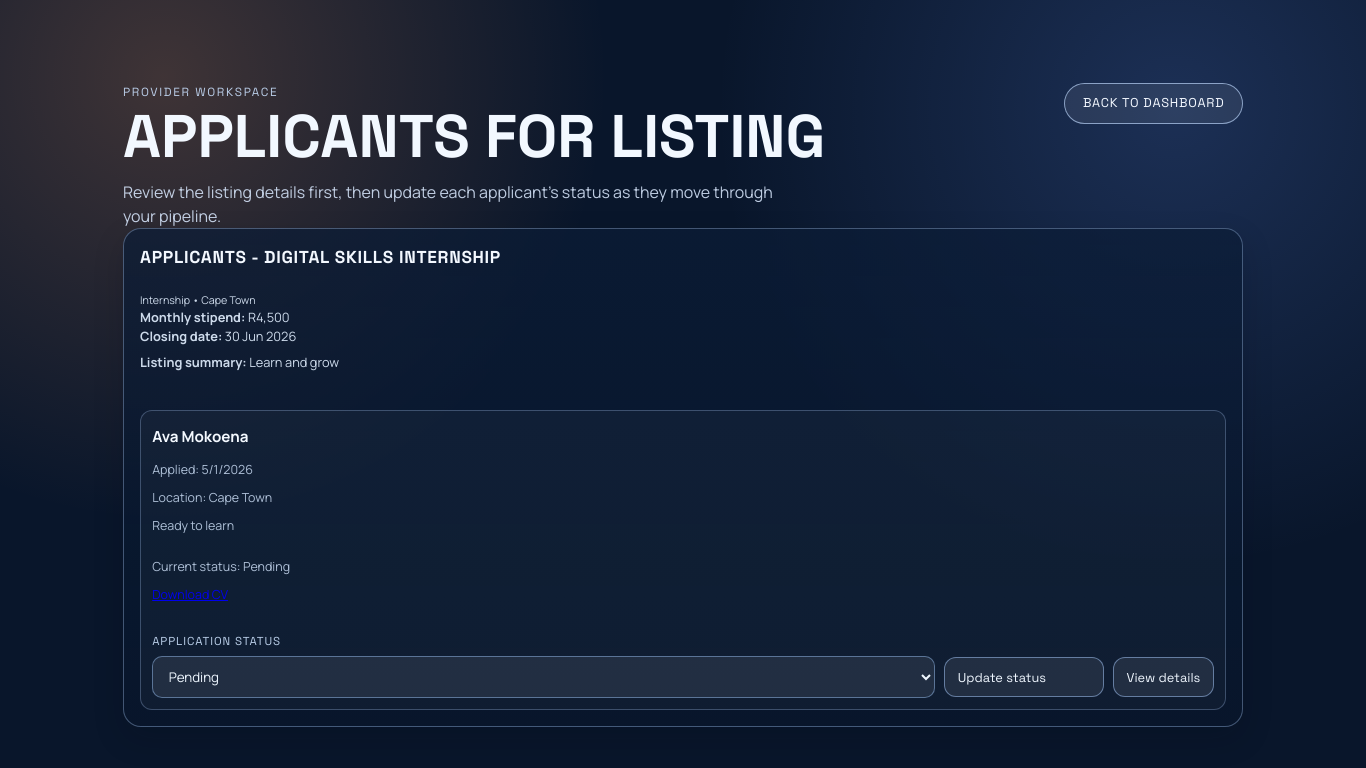
Test: ProviderListingApplications coverage › opens a detailed applicant profile modal with education, skills, and documents
The image size is (1366, 768).
Check: the heading "Applicants - Digital Skills Internship" is shown, box [140,246,501,268]
Click the button "View details".
click(1163, 677)  # box [1113,657,1214,697]
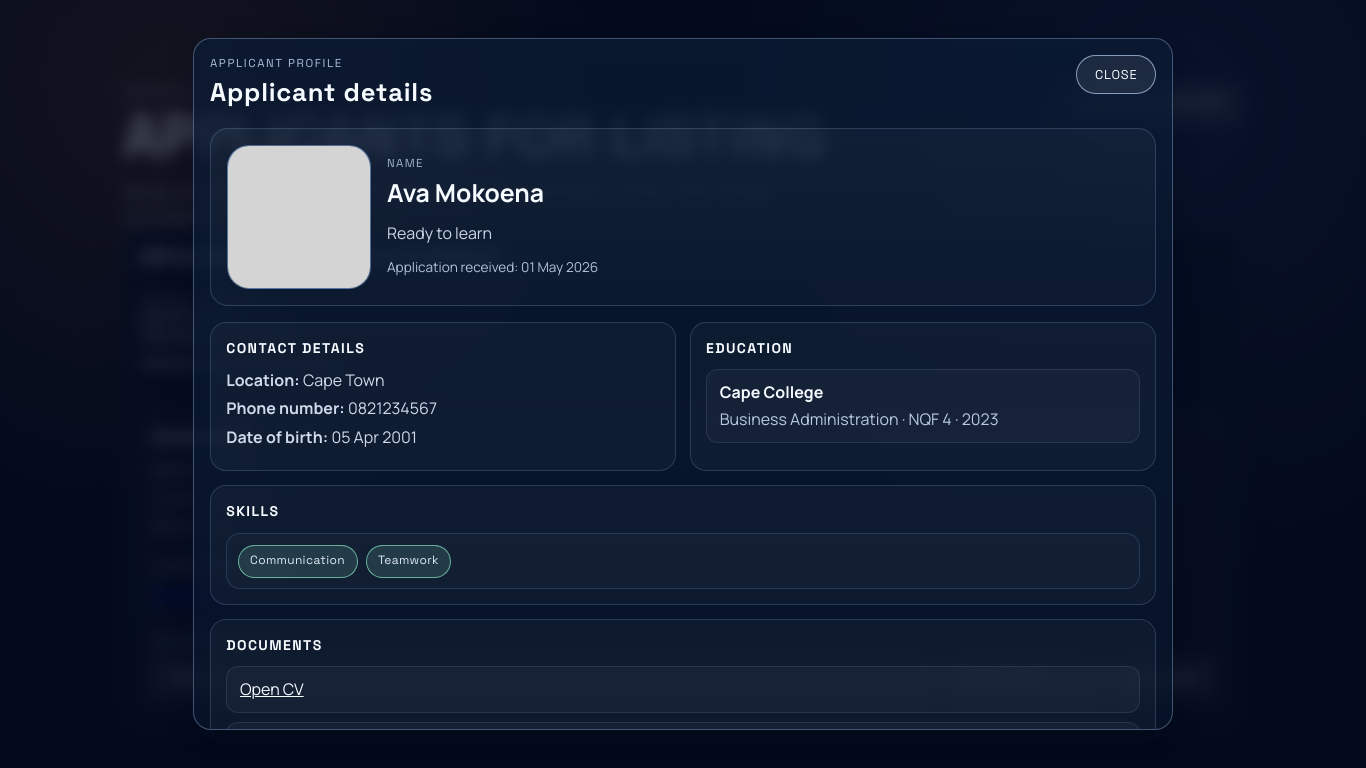
Check: the text "Applicant profile" is shown, box [210,56,343,70]
Check: the text "Cape College" is shown, box [720,381,823,403]
Check: the text "Communication" is shown, box [238,545,358,578]
